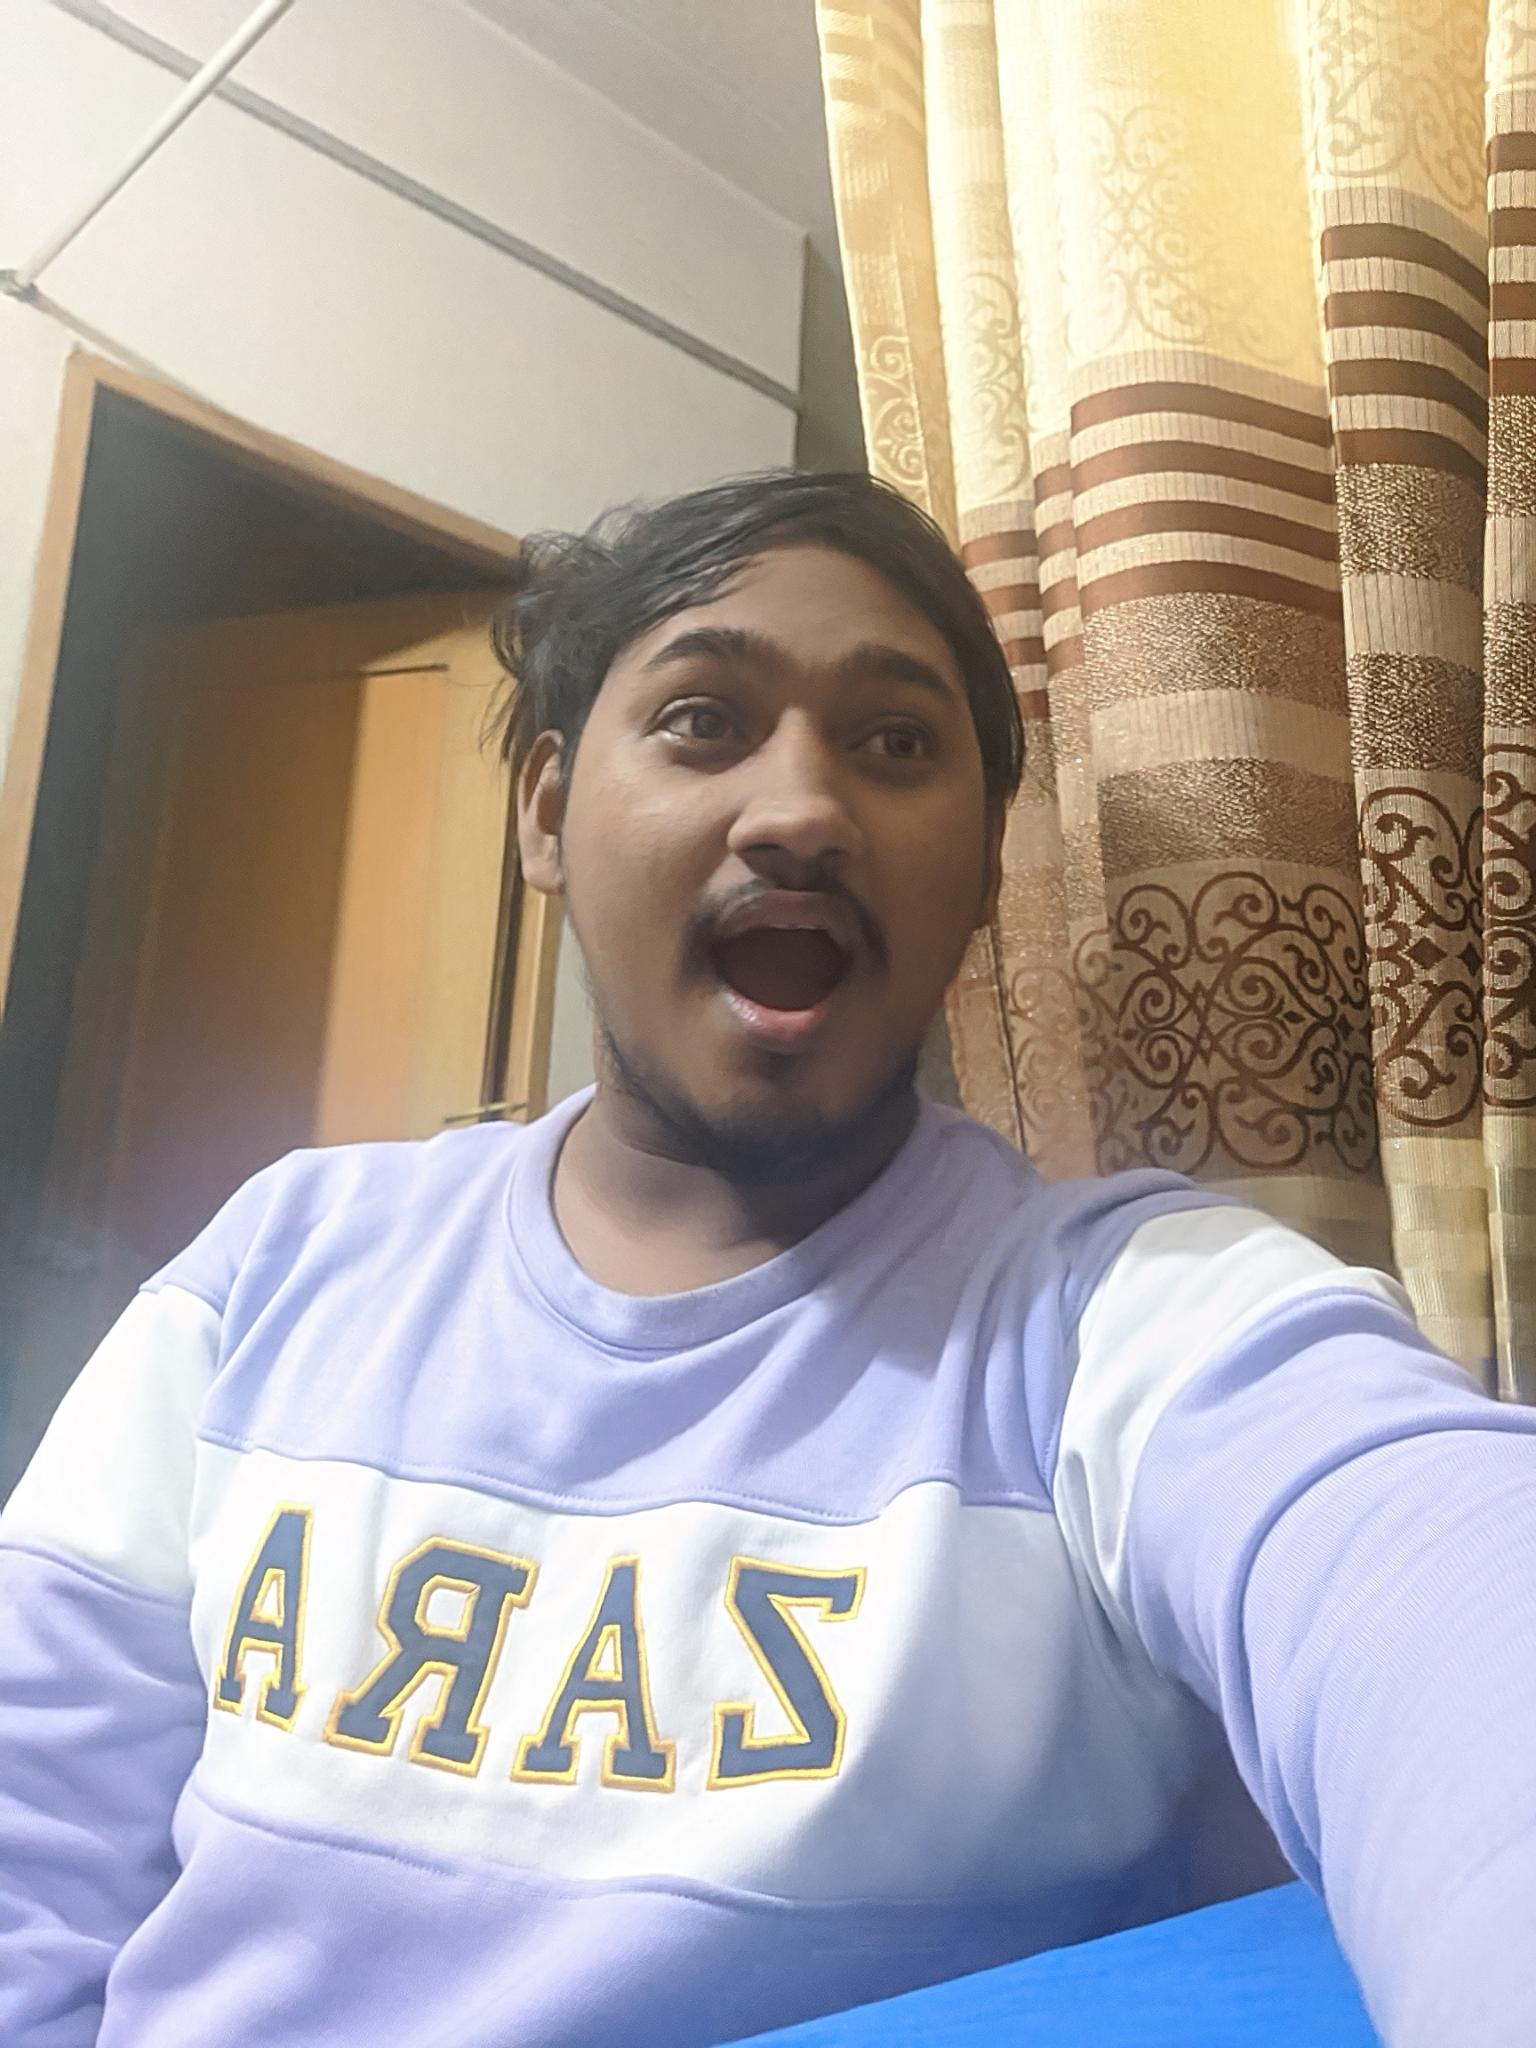Surprise: (582, 548, 991, 1169)
